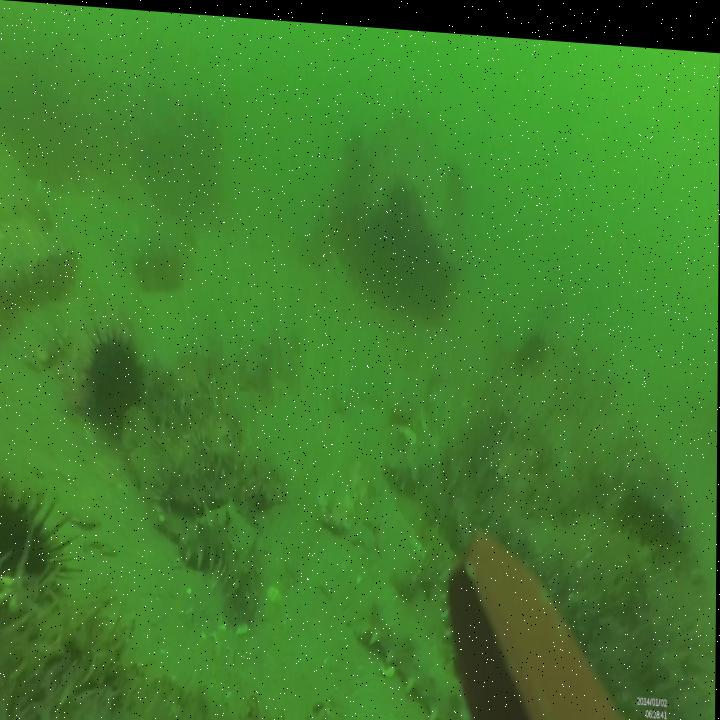echinus: (0, 484, 81, 580), (87, 326, 144, 422), (518, 309, 552, 364)
holothurian: (356, 578, 491, 720), (178, 502, 262, 616)
